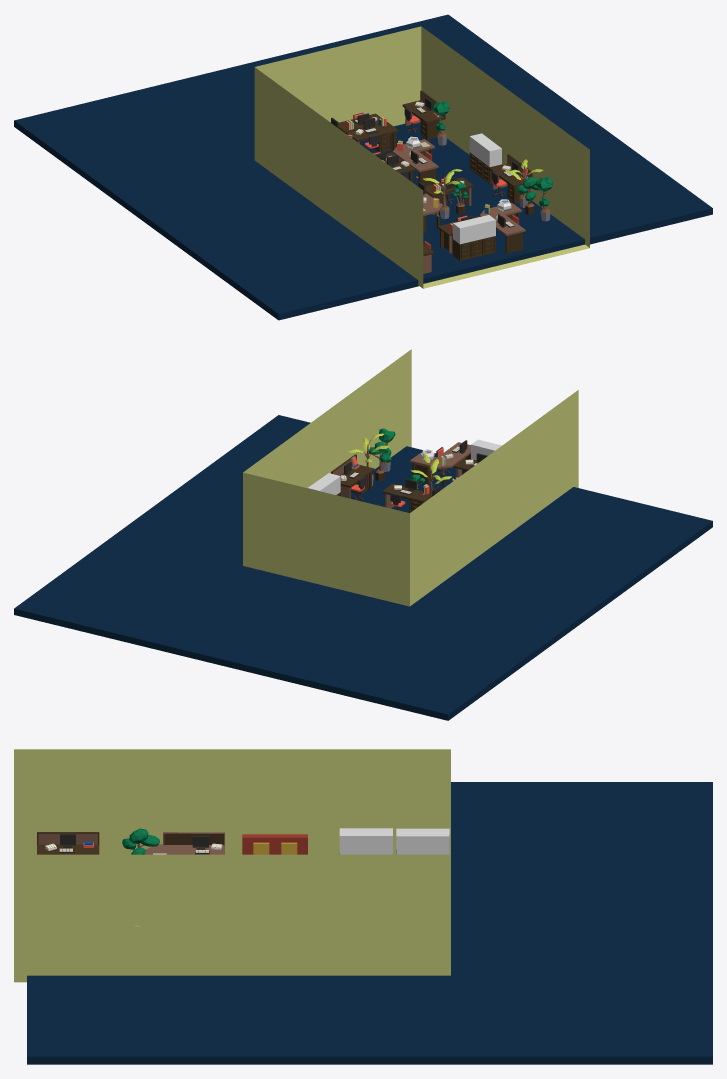
Rendered from office_1_ug.fbx.
3 views of the same model, one above another, from view 1: azimuth 30°, elevation 25°; view 2: azimuth 150°, elevation 25°; view 3: azimuth 270°, elevation 25° (orthographic). The views are drawn at different scales.
Parts seen in each view (by area): view 1: Boden, Raum, fish_tank, desk.018, desk.001, fish_tank.007, desk.009, desk.010, desk.005; view 2: Boden, Raum, desk.010, desk.018; view 3: Boden, Raum, fish_tank.003, fish_tank.004, desk.015, desk.019, Cube, Tree_Tropic_020.
Part boxes in pixels (bbox=[...]): Boden: bbox=[14, 14, 712, 320]; Raum: bbox=[254, 26, 589, 288]; fish_tank: bbox=[453, 215, 495, 244]; desk.018: bbox=[479, 203, 525, 253]; desk.001: bbox=[392, 139, 438, 186]; fish_tank.007: bbox=[469, 133, 501, 167]; desk.009: bbox=[402, 90, 445, 141]; desk.010: bbox=[489, 154, 532, 204]; desk.005: bbox=[346, 122, 398, 150]; Boden: bbox=[14, 415, 712, 720]; Raum: bbox=[243, 349, 578, 606]; desk.010: bbox=[331, 454, 374, 498]; desk.018: bbox=[410, 442, 470, 486]; Boden: bbox=[27, 782, 712, 1064]; Raum: bbox=[14, 749, 450, 982]; fish_tank.003: bbox=[396, 828, 449, 854]; fish_tank.004: bbox=[339, 828, 392, 854]; desk.015: bbox=[144, 832, 224, 854]; desk.019: bbox=[37, 832, 99, 854]; Cube: bbox=[242, 834, 307, 854]; Tree_Tropic_020: bbox=[122, 828, 159, 854].
Bounding box in the file's own units: 4487 × 984 × 4826.
